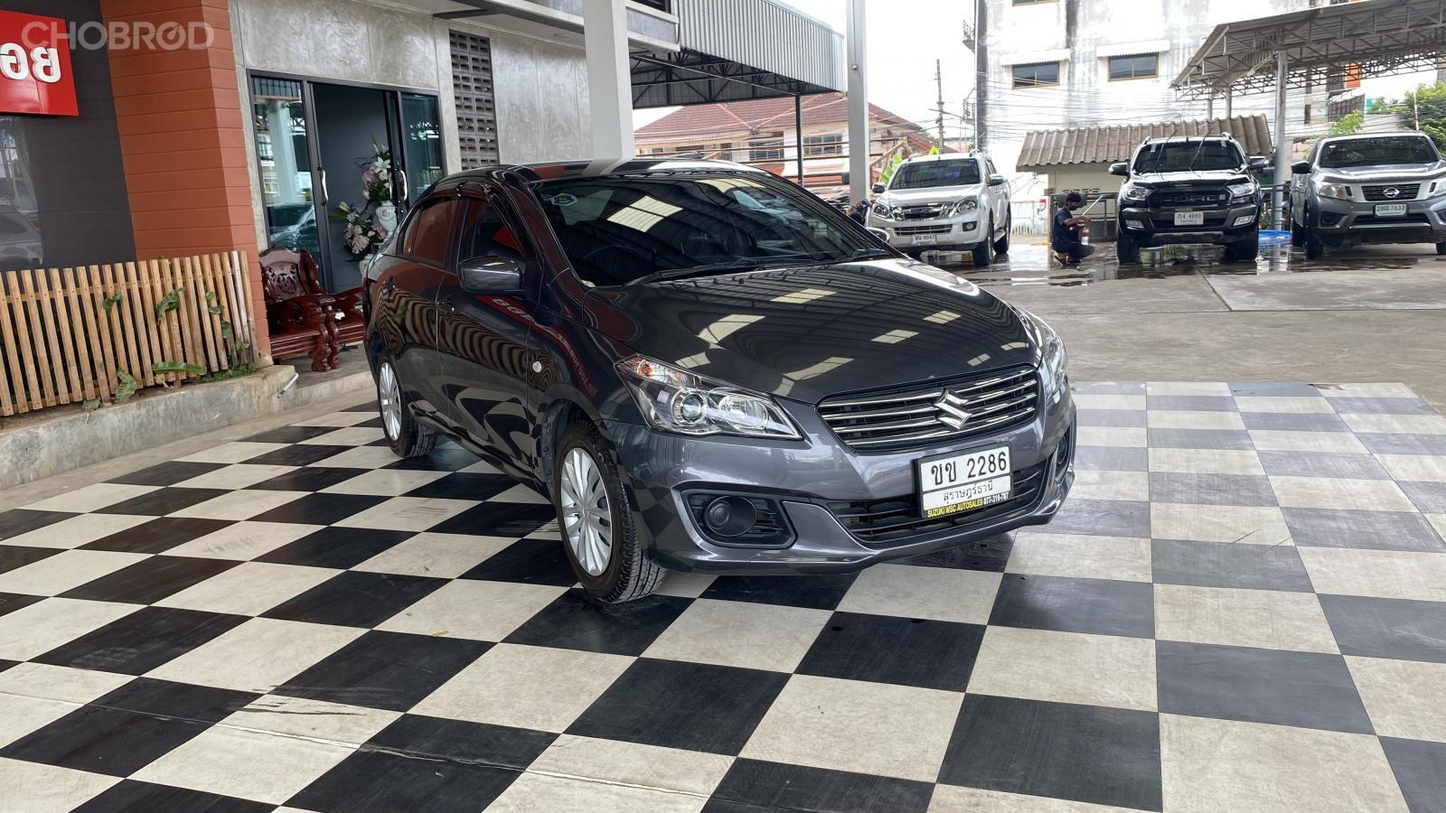license-plate: (917, 437, 1018, 522), (1171, 209, 1210, 229), (1370, 203, 1413, 219), (909, 231, 940, 246)
